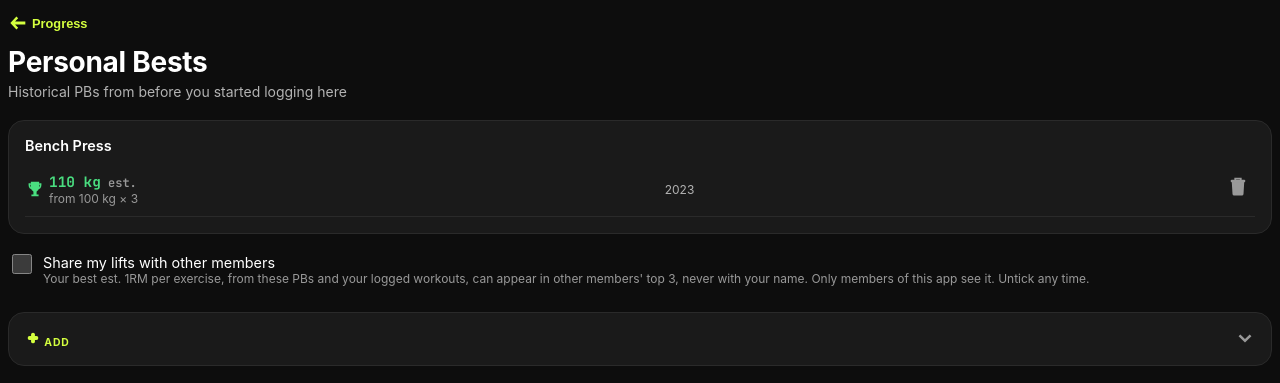
PersonalBests page › a single tap arms the confirm state but does not delete
The image size is (1280, 383).
Expected: the text "from 100 kg × 3" is shown, top-left (49, 191), bottom-right (138, 206)
Step 1. Click the button named "delete personal best Bench Press" → [1238, 189], box top-left (1221, 175), bottom-right (1255, 203)
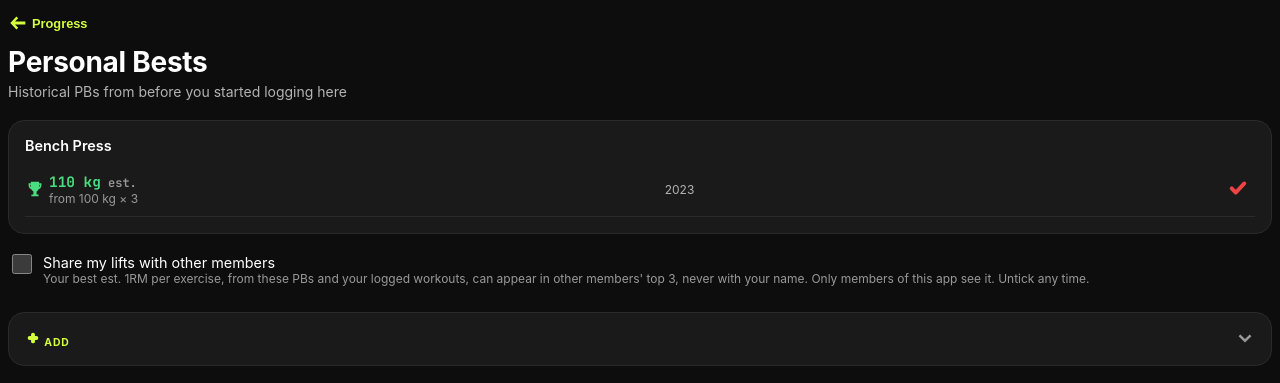
Expected: the text "from 100 kg × 3" is shown, top-left (49, 191), bottom-right (138, 206)
Now the button named "confirm delete personal best Bench Press" is shown, box top-left (1221, 176), bottom-right (1255, 202)
